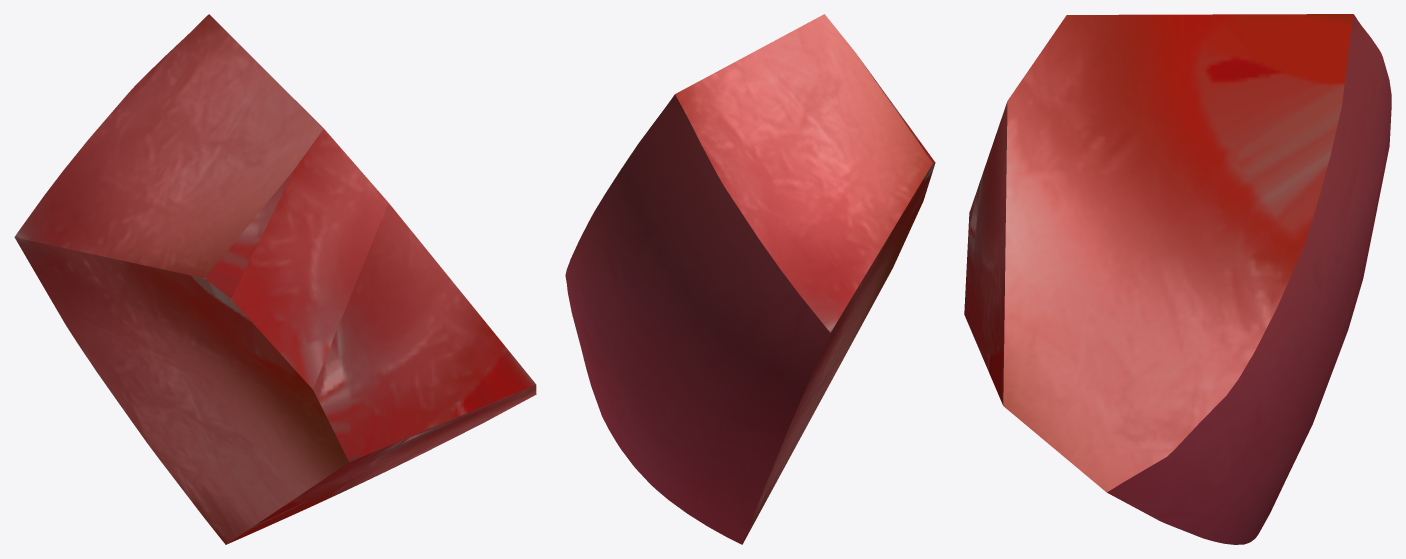
The model's file is SM_HeartPiece_16_.FBX.
3 views of the same model, side by side, from view 1: azimuth 30°, elevation 25°; view 2: azimuth 150°, elevation 25°; view 3: azimuth 270°, elevation 25° (orthographic). The views are drawn at different scales.
Parts seen in each view (by area): view 1: SM_HeartPiece_16_; view 2: SM_HeartPiece_16_; view 3: SM_HeartPiece_16_.
Boxes of the visible parts, bbox=[...] form: SM_HeartPiece_16_: bbox=[14, 14, 536, 544]; SM_HeartPiece_16_: bbox=[565, 14, 935, 544]; SM_HeartPiece_16_: bbox=[964, 14, 1391, 544].
Bounding box in the file's own units: 216 × 193 × 261.
